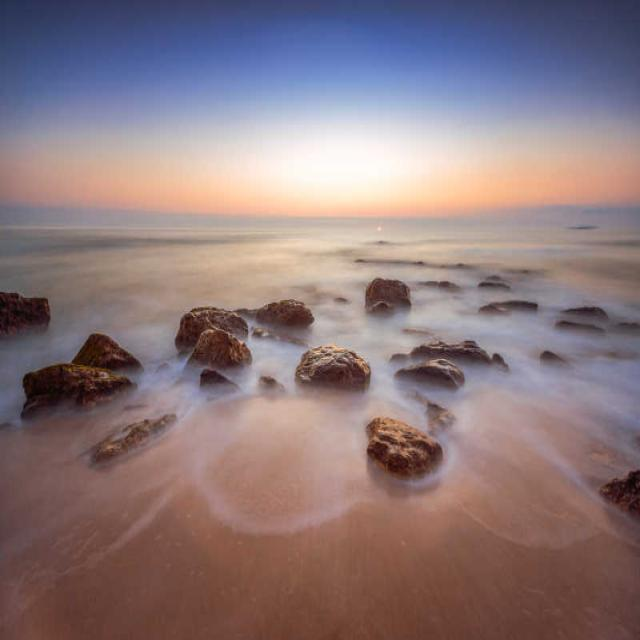reef: (20, 329, 142, 450), (3, 289, 100, 396), (173, 279, 264, 392), (267, 287, 365, 382), (373, 367, 442, 484), (346, 242, 414, 324), (461, 260, 520, 330)
